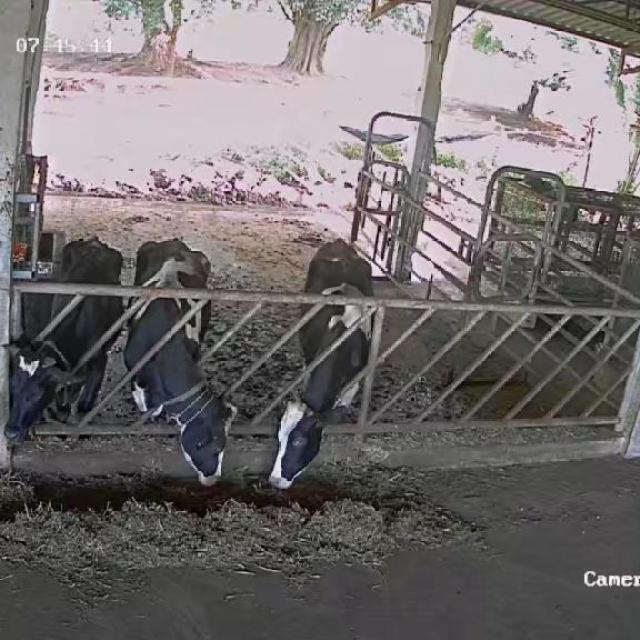feeding: (265, 235, 381, 491), (128, 233, 238, 493)
